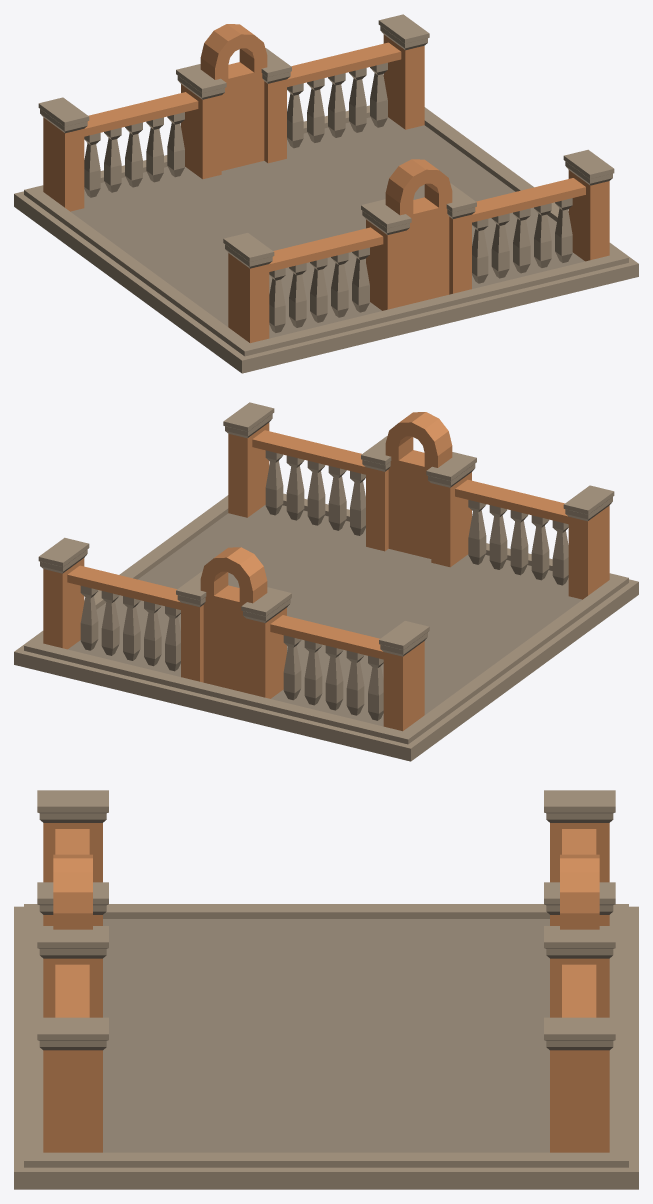
The model's file is SM_Bld_Cuba_Roof_Square_01.glb.
The picture shows the model from 3 angles, top to bottom: view 1: azimuth 30°, elevation 25°; view 2: azimuth 150°, elevation 25°; view 3: azimuth 270°, elevation 25°; orthographic projection. The views are drawn at different scales.
Parts seen in each view (by area): view 1: SM_Bld_Cuba_Roof_Square_01_part00; view 2: SM_Bld_Cuba_Roof_Square_01_part00; view 3: SM_Bld_Cuba_Roof_Square_01_part00.
Boxes of the visible parts, bbox=[...] form: SM_Bld_Cuba_Roof_Square_01_part00: bbox=[14, 14, 638, 373]; SM_Bld_Cuba_Roof_Square_01_part00: bbox=[14, 402, 638, 761]; SM_Bld_Cuba_Roof_Square_01_part00: bbox=[14, 790, 638, 1189].
Bounding box in the file's own units: 4.24 × 1.48 × 4.22.
Materials: 1 (1 with a texture image).
